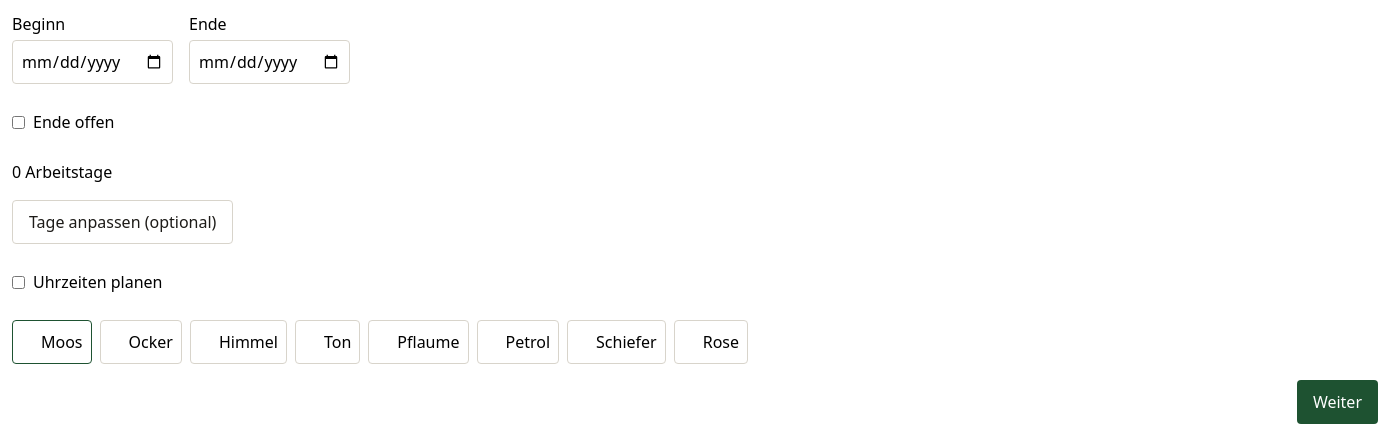
Scenario: StepPeriod › leitet 10 Arbeitstage ab, OHNE dass der Tagespicker angefasst wird
Type "2026-09-07" into the date field labelled "Beginn". click: (92, 62)
box: [12,40,173,84]
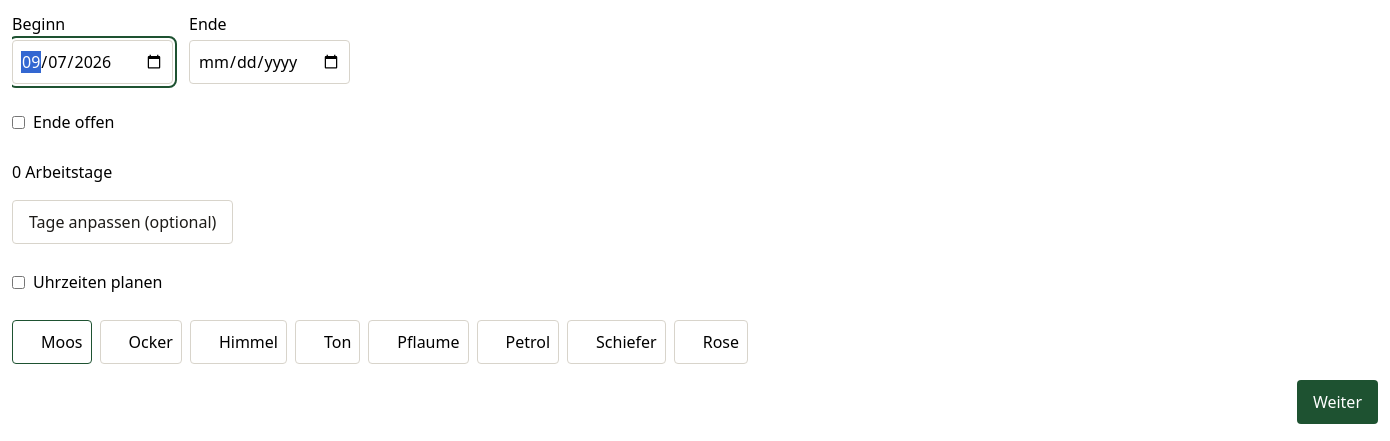
Type "2026-09-18" into the date field labelled "Ende". click: (270, 62)
box: [189,40,350,84]
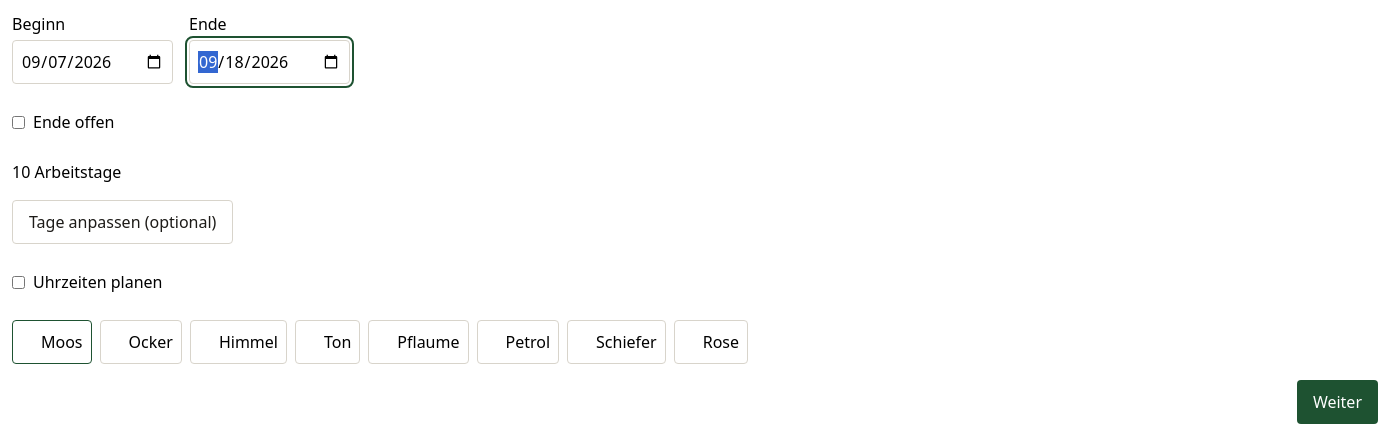
Expected: the button "Tage anpassen (optional)" is shown, [12,200,233,244]
Expected: the text with test id "arbeitstage" reads "10 Arbeitstage", [12,161,121,183]
